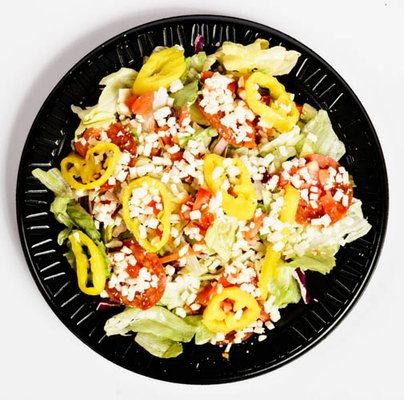sandwich: (9, 21, 374, 355)
